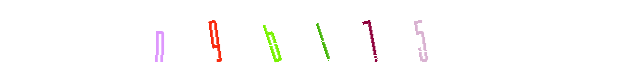5: (331, 0, 411, 80)
7: (270, 0, 350, 80)
9: (215, 0, 295, 80)
B: (249, 0, 329, 80)
L: (255, 0, 335, 80)
N: (175, 0, 255, 80)
